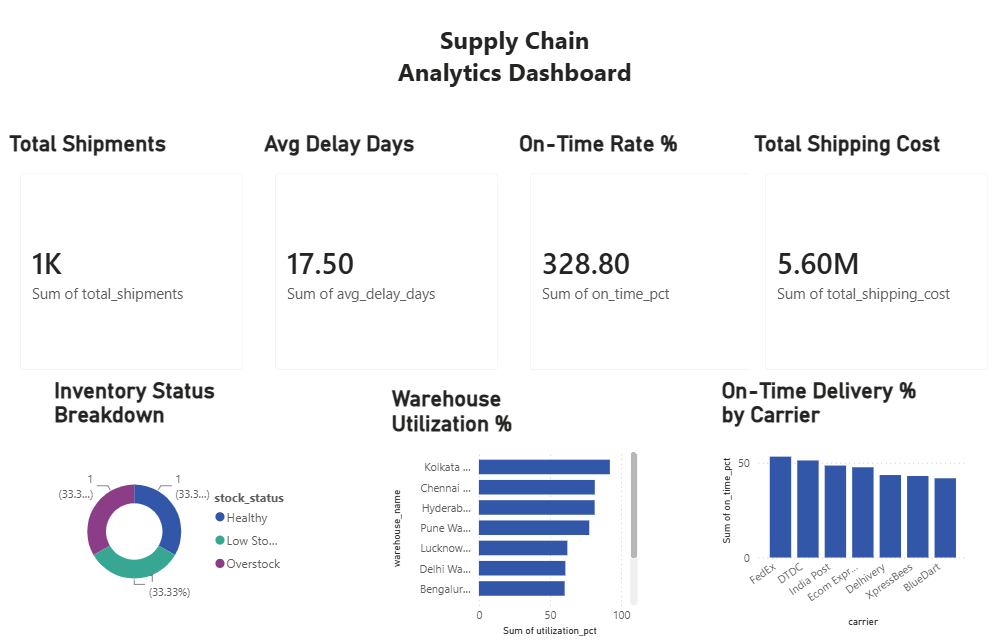

The page's visual inventory and layout, read from the dashboard file:
{"tool":"powerbi","page":{"name":"Executive Summary","canvas":[1280,720],"ordinal":0},"visuals":[{"type":"cardVisual","title":"Total Shipments","fields":{"Data":["Sum(Carrier Performance.total_shipments)"]},"box":[9.6,153.7,279.9,279.9],"z":0},{"type":"cardVisual","title":"Avg Delay Days","fields":{"Data":["Sum(Carrier Performance.avg_delay_days)"]},"box":[289.5,153.7,279.9,279.9],"z":1000},{"type":"cardVisual","title":"On-Time Rate %","fields":{"Data":["Sum(Carrier Performance.on_time_pct)"]},"box":[569.5,153.7,279.9,279.9],"z":2000},{"type":"cardVisual","title":"Total Shipping Cost","fields":{"Data":["Sum(Carrier Performance.total_shipping_cost)"]},"box":[827.4,153.7,279.9,279.9],"z":3000},{"type":"donutChart","title":"Inventory Status Breakdown","fields":{"Category":["Inventory Health.stock_status"],"Y":["CountNonNull(Inventory Health.product_count)"]},"box":[59,424,279.9,279.9],"z":4000},{"type":"clusteredBarChart","title":"Warehouse Utilization %","fields":{"Category":["Warehouse Util.warehouse_name"],"Y":["Sum(Warehouse Util.utilization_pct)"]},"box":[429.5,433.6,279.9,279.9],"z":5000},{"type":"clusteredColumnChart","title":"On-Time Delivery % by Carrier","fields":{"Category":["Carrier Performance.carrier"],"Y":["Sum(Carrier Performance.on_time_pct)"]},"box":[791.8,424,279.9,279.9],"z":6000},{"type":"textbox","box":[429.5,30.2,279.9,96.1],"z":7000}]}

Visuals, with their boxes on the page's 1280x720 design canvas (x1, y1, x2, y2). These are canvas units, not pixel positions in the 1003x641 screenshot, which may show the page scaled, cropped or inside an application window:
"Total Shipments" cardVisual: select_region(10, 154, 290, 434)
"Avg Delay Days" cardVisual: select_region(290, 154, 569, 434)
"On-Time Rate %" cardVisual: select_region(570, 154, 849, 434)
"Total Shipping Cost" cardVisual: select_region(827, 154, 1107, 434)
"Inventory Status Breakdown" donutChart: select_region(59, 424, 339, 704)
"Warehouse Utilization %" clusteredBarChart: select_region(430, 434, 709, 714)
"On-Time Delivery % by Carrier" clusteredColumnChart: select_region(792, 424, 1072, 704)
textbox: select_region(430, 30, 709, 126)
